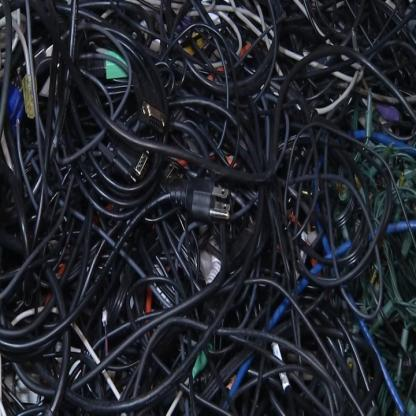wires: (0, 2, 415, 414)
